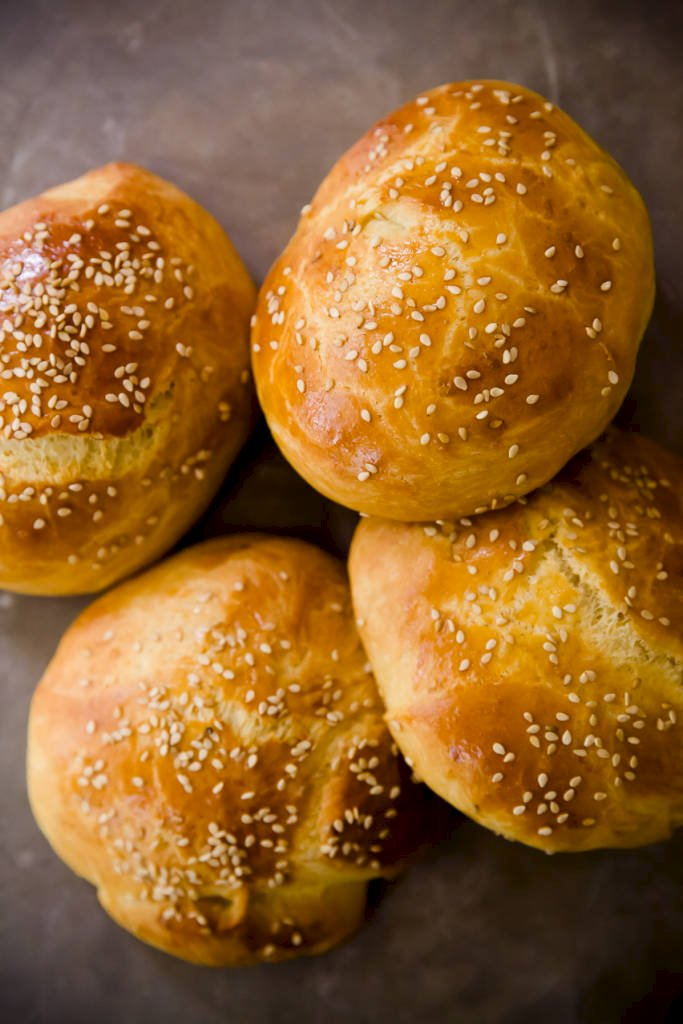hamburger_buns: (25, 530, 443, 983), (253, 69, 601, 509), (339, 503, 683, 874)
